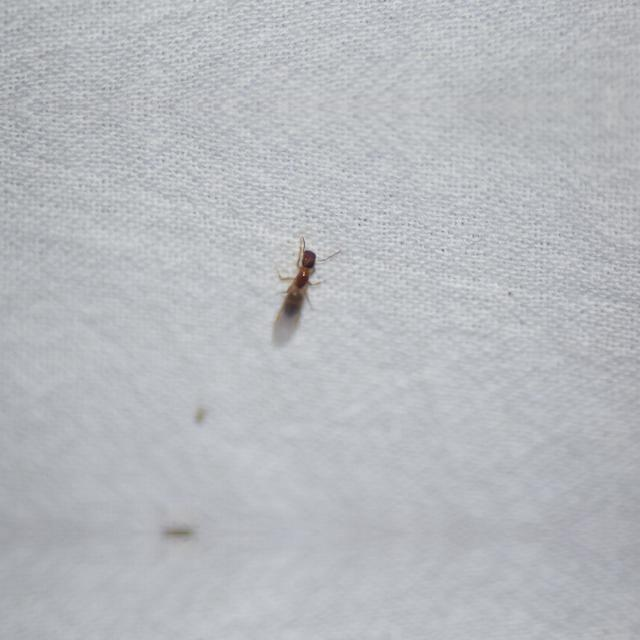Colobopsis: (250, 233, 344, 345)
